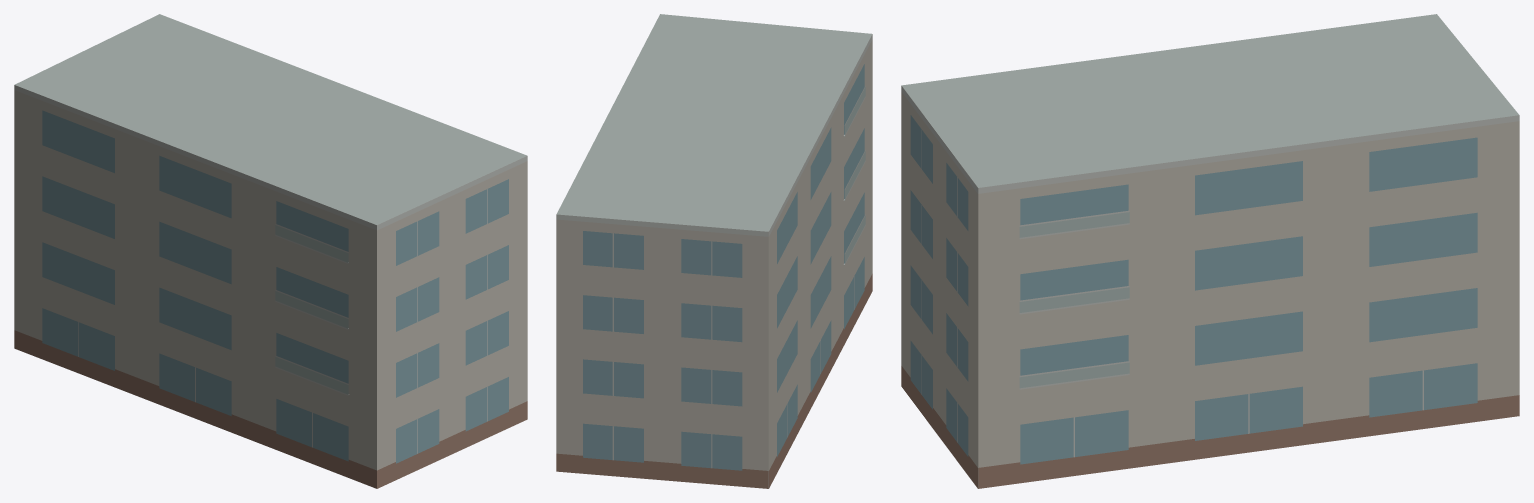
Rendered from survey-upis-32924866.glb.
3 renders of one model, left to right at view 1: azimuth 30°, elevation 25°; view 2: azimuth 150°, elevation 25°; view 3: azimuth 270°, elevation 25°, orthographic. The views are drawn at different scales.
Visible parts, largest first — view 1: survey-upis-32924866.tmp; view 2: survey-upis-32924866.tmp; view 3: survey-upis-32924866.tmp.
Boxes of the visible parts, x1,y1,x2,y2 form: survey-upis-32924866.tmp: [14, 14, 527, 488]; survey-upis-32924866.tmp: [556, 14, 872, 488]; survey-upis-32924866.tmp: [901, 14, 1519, 488].
Bounding box in the file's own units: 15.39 × 12.4 × 23.1.
